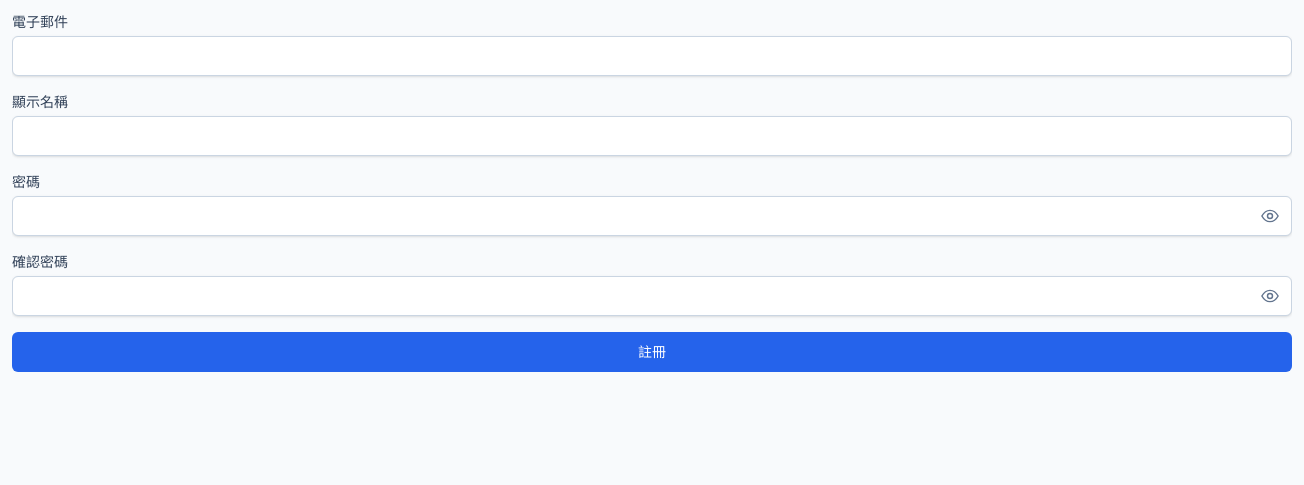
Test: RegisterForm password confirmation › enforces minimum password length
The width and height of the screenshot is (1304, 485).
Type "123" into the password field labelled "密碼". click: [652, 216]
box: [12,196,1292,236]
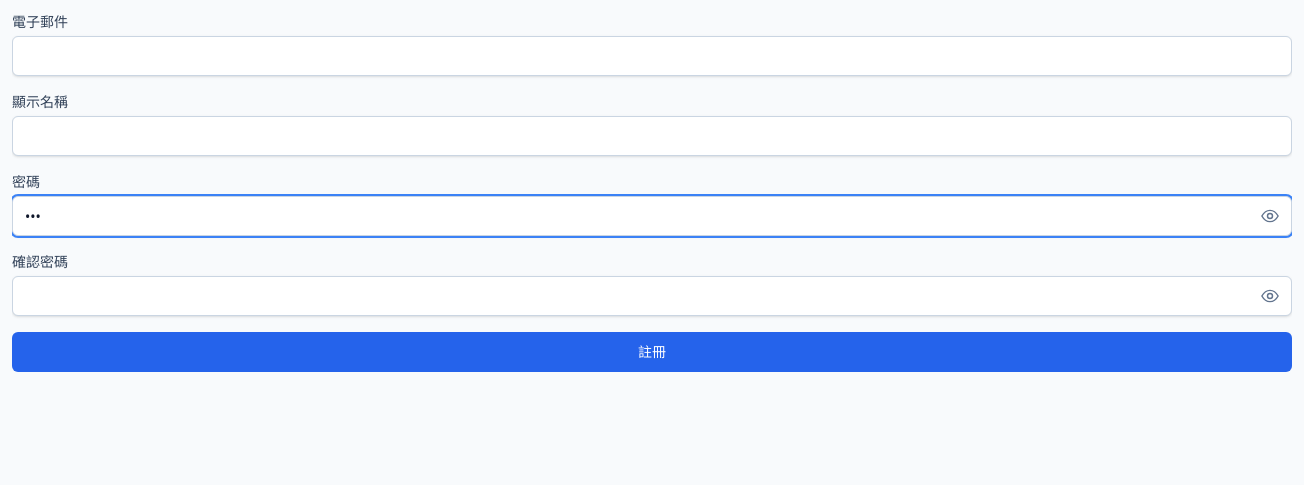
Click the button "註冊". click: [652, 352]
box: [12,332,1292,372]
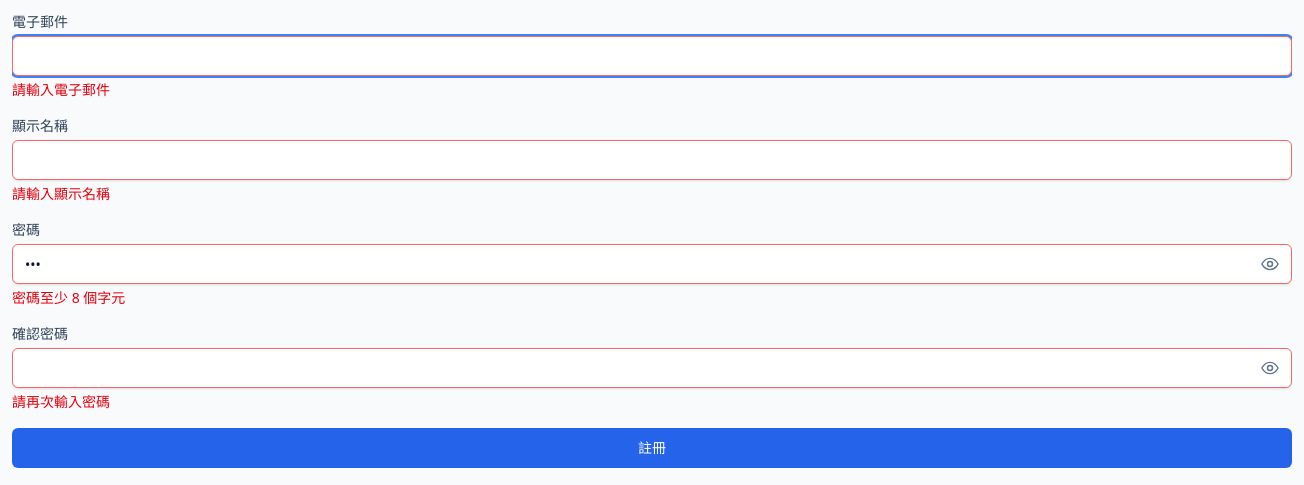
Now the text "密碼至少 8 個字元" is shown, box [12,288,125,307]
